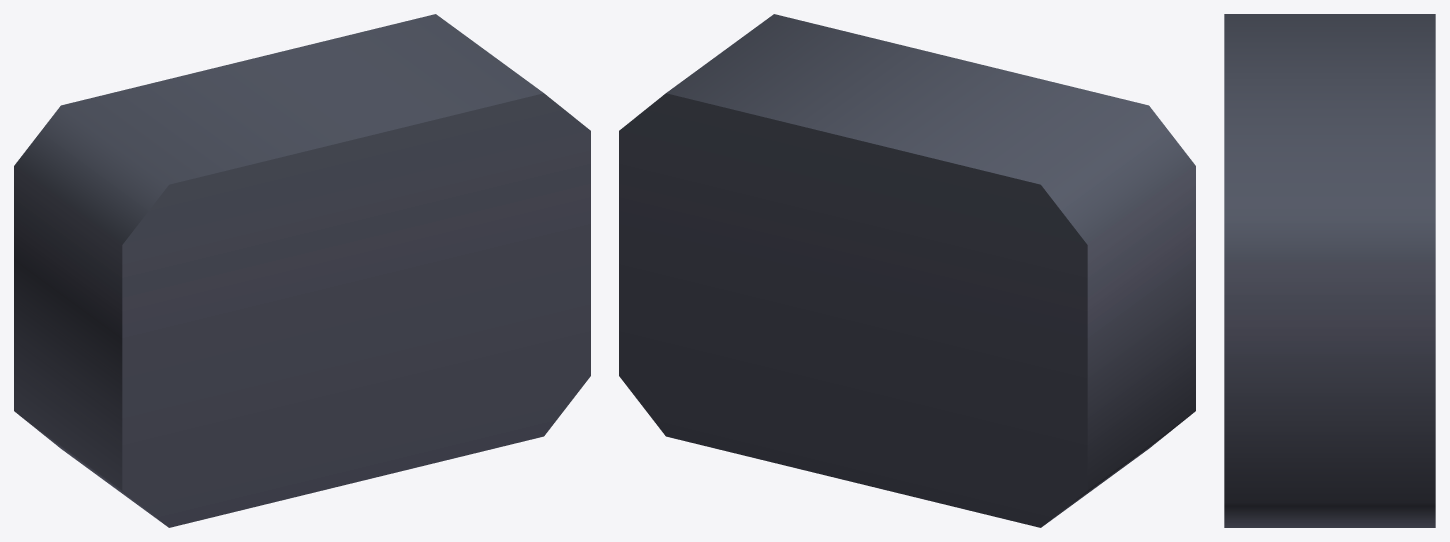
The model's file is coaster-monorail-segment.glb.
The picture shows the model from 3 angles, left to right: view 1: azimuth 30°, elevation 25°; view 2: azimuth 150°, elevation 25°; view 3: azimuth 270°, elevation 25°; orthographic projection. The views are drawn at different scales.
Visible parts, largest first — view 1: coaster-monorail-segment; view 2: coaster-monorail-segment; view 3: coaster-monorail-segment.
Part boxes in pixels (x1=…): coaster-monorail-segment: x1=14, y1=14, x2=590, y2=527; coaster-monorail-segment: x1=619, y1=14, x2=1195, y2=527; coaster-monorail-segment: x1=1224, y1=14, x2=1435, y2=527.
Size of the model in its own units: 0.25 by 0.175 by 0.1.
Materials: 1 (1 with a texture image).
